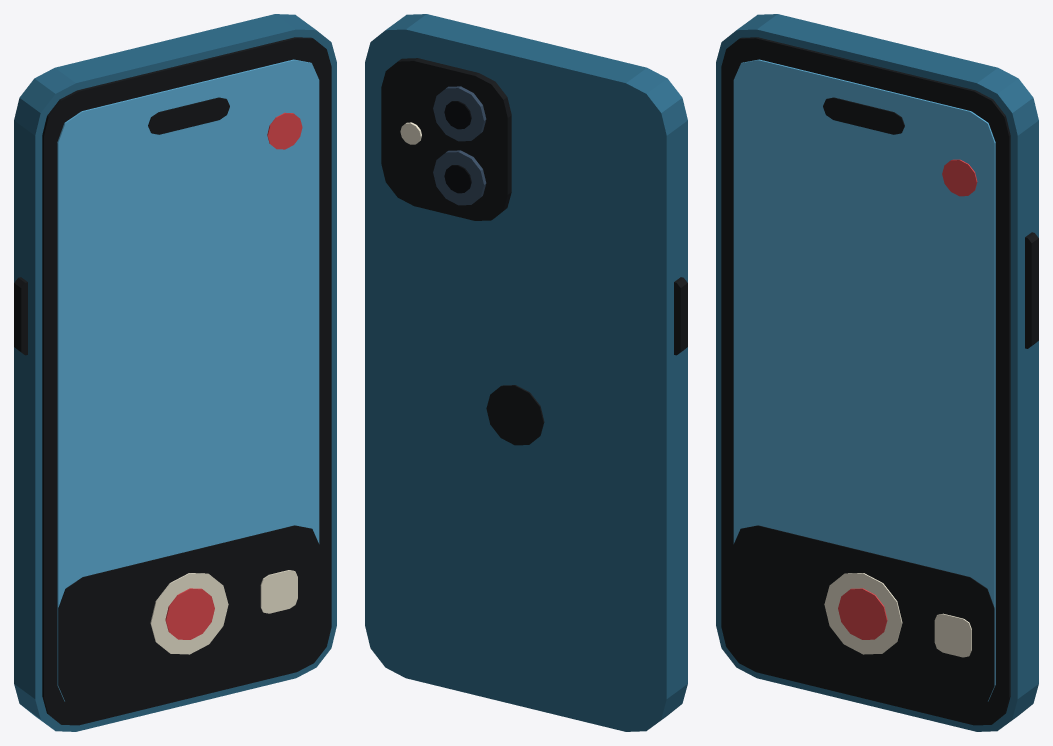
The model's file is Prop_NpcPhone.fbx.
3 views of the same model, side by side, from view 1: azimuth 30°, elevation 25°; view 2: azimuth 150°, elevation 25°; view 3: azimuth 330°, elevation 25° (orthographic).
Visible parts, largest first — view 1: Prop_NpcPhone; view 2: Prop_NpcPhone; view 3: Prop_NpcPhone.
Part boxes in pixels (x1,y1,x2,y2): Prop_NpcPhone: [14, 14, 336, 731]; Prop_NpcPhone: [365, 14, 687, 731]; Prop_NpcPhone: [716, 14, 1038, 731].
Bounding box in the file's own units: 0.0774 × 0.152 × 0.014.
